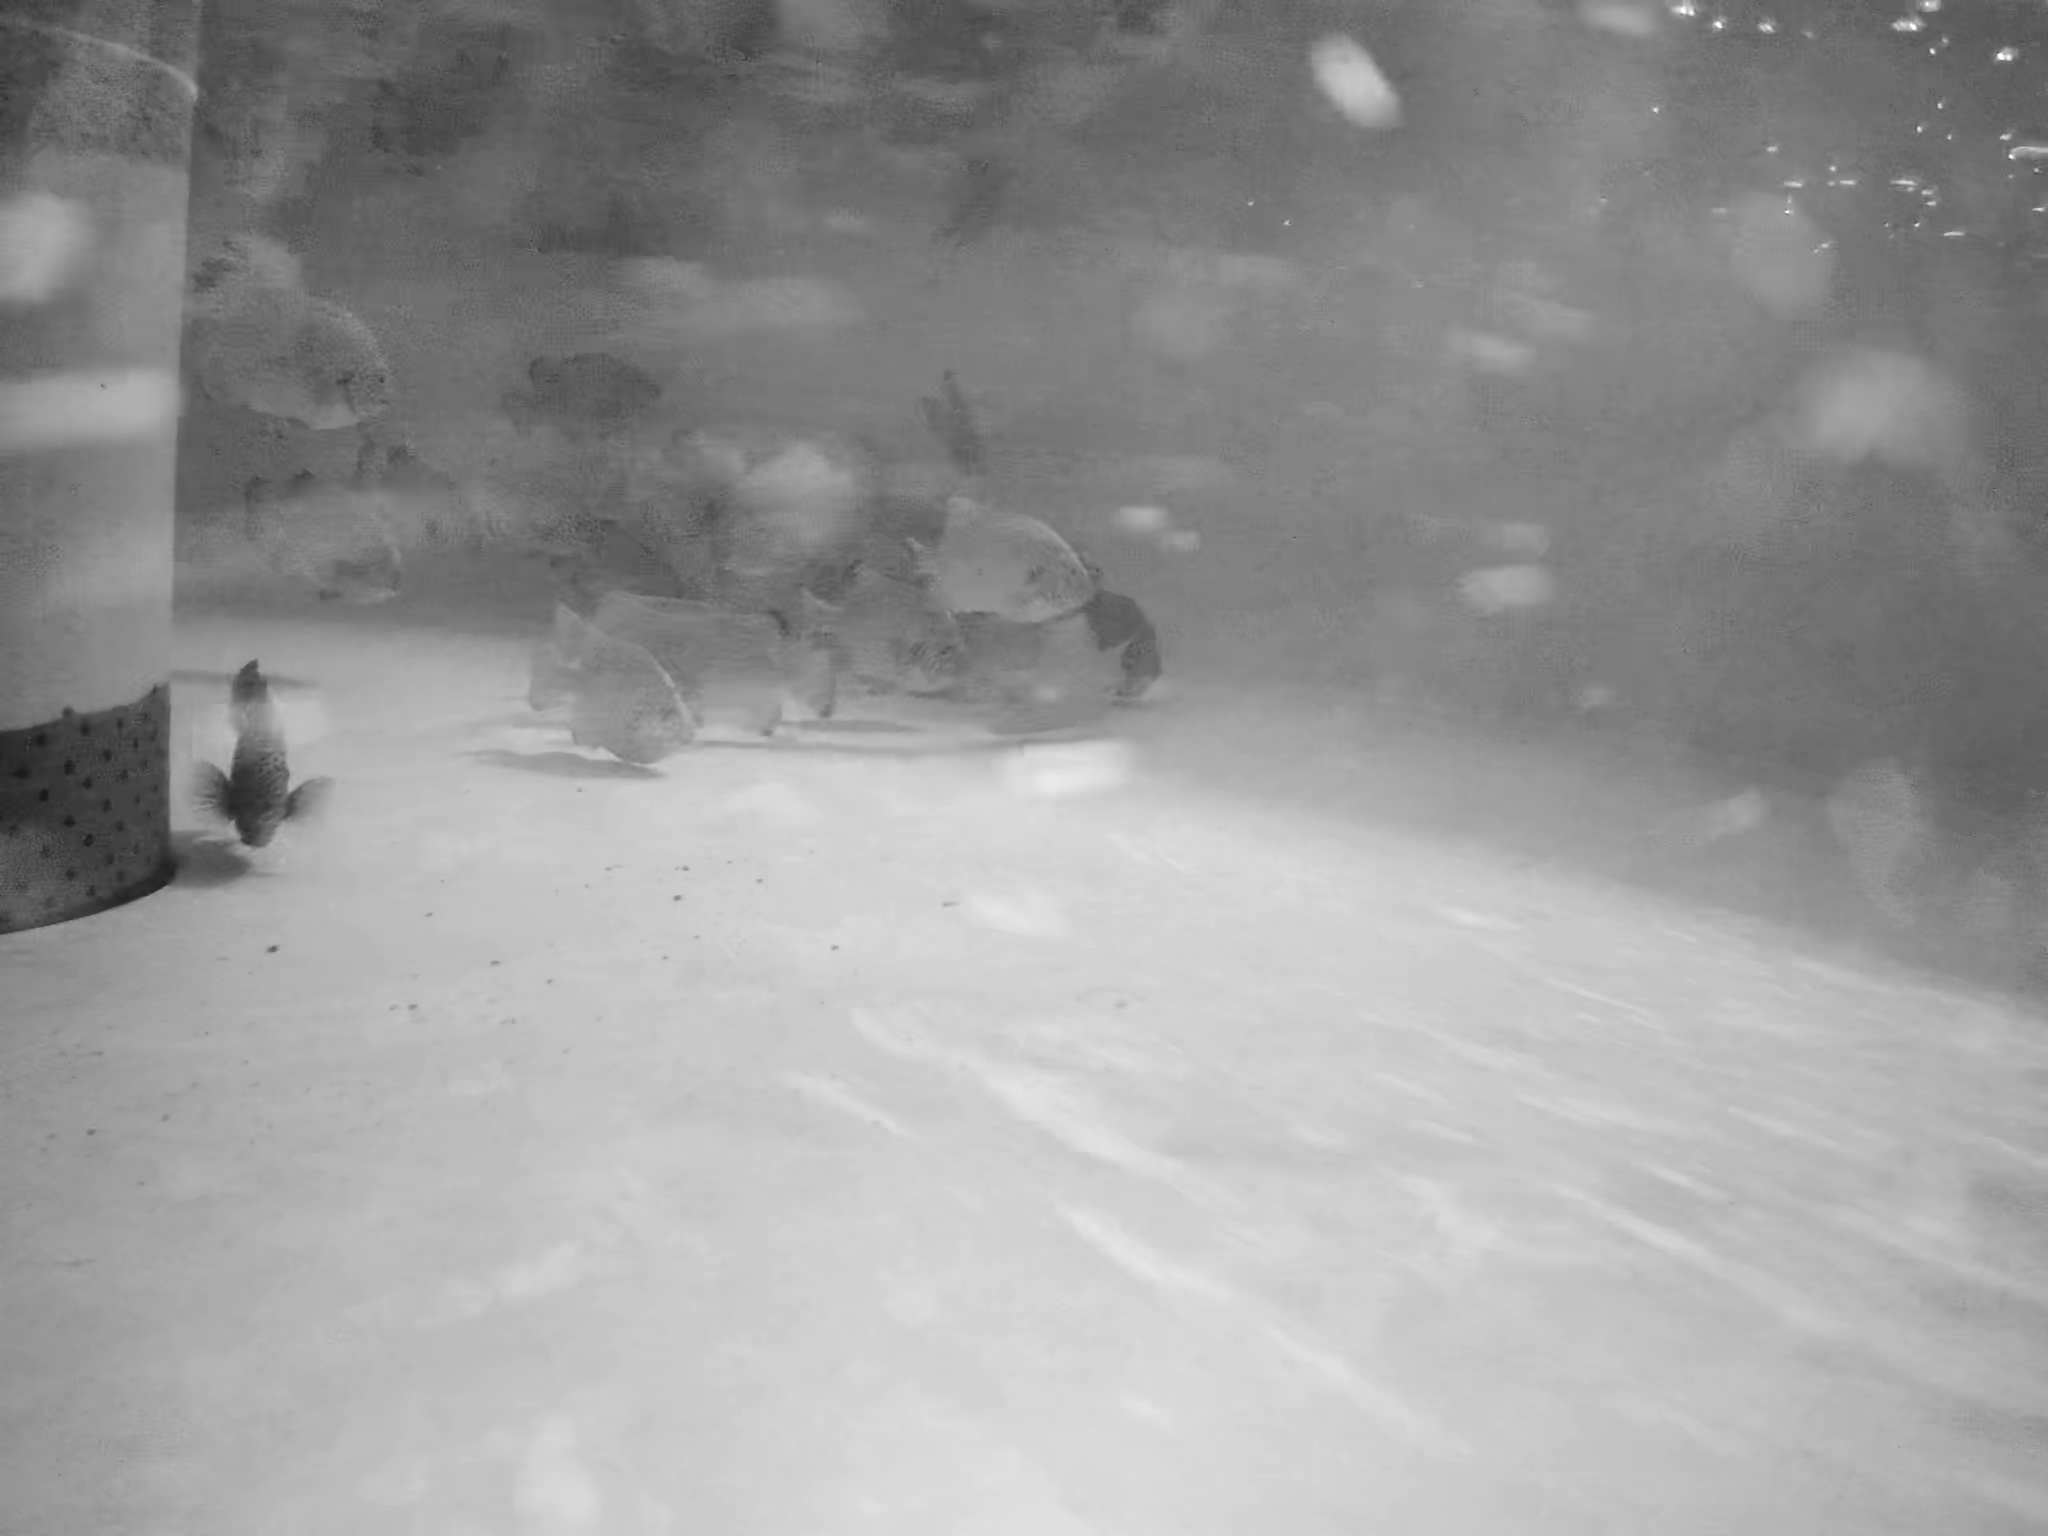fish: (185, 273, 408, 450), (605, 579, 801, 749), (181, 663, 335, 854), (905, 487, 1114, 621), (518, 610, 698, 760), (248, 460, 414, 621), (806, 571, 984, 695), (484, 332, 677, 445), (369, 449, 502, 578), (1064, 578, 1171, 699), (943, 594, 1059, 692)
